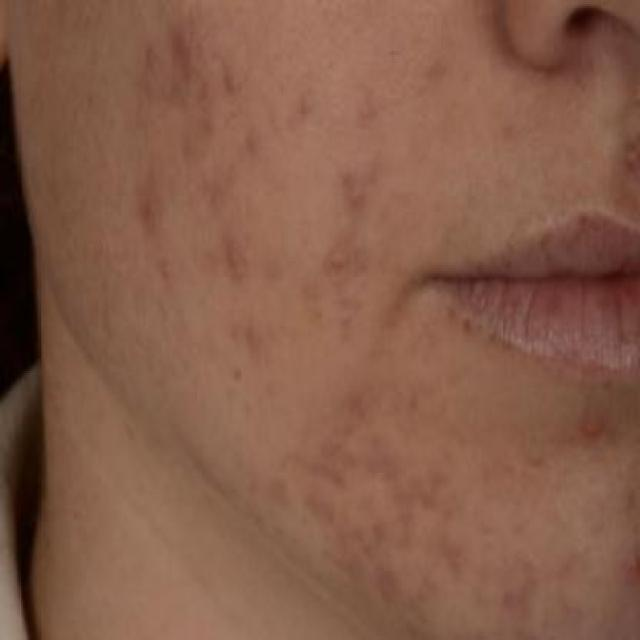papules: (212, 237, 266, 286), (128, 186, 170, 238), (162, 21, 206, 64), (326, 237, 365, 280), (340, 183, 378, 208), (224, 63, 253, 94)
